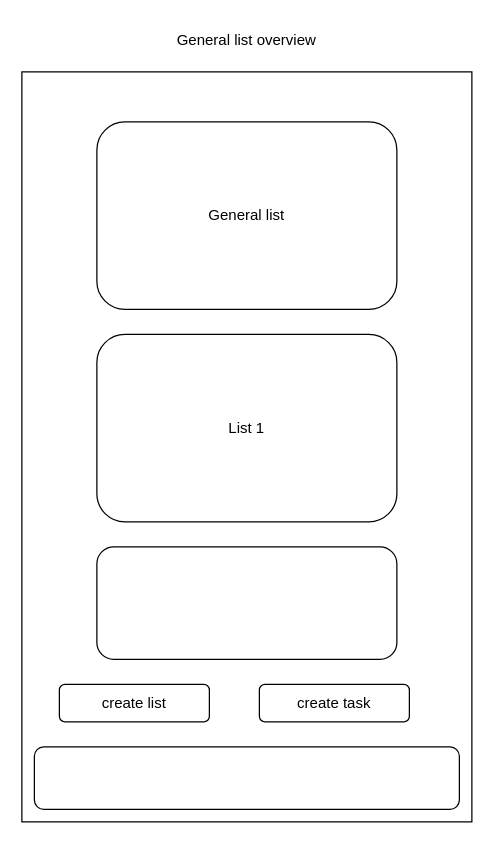
This 494x844 diagram has some shape labels left out. The centre of each missing label's shape, as x and y in pixels:
"List 2" goes at (x=246, y=602).
"navigation bar" goes at (x=246, y=777).
